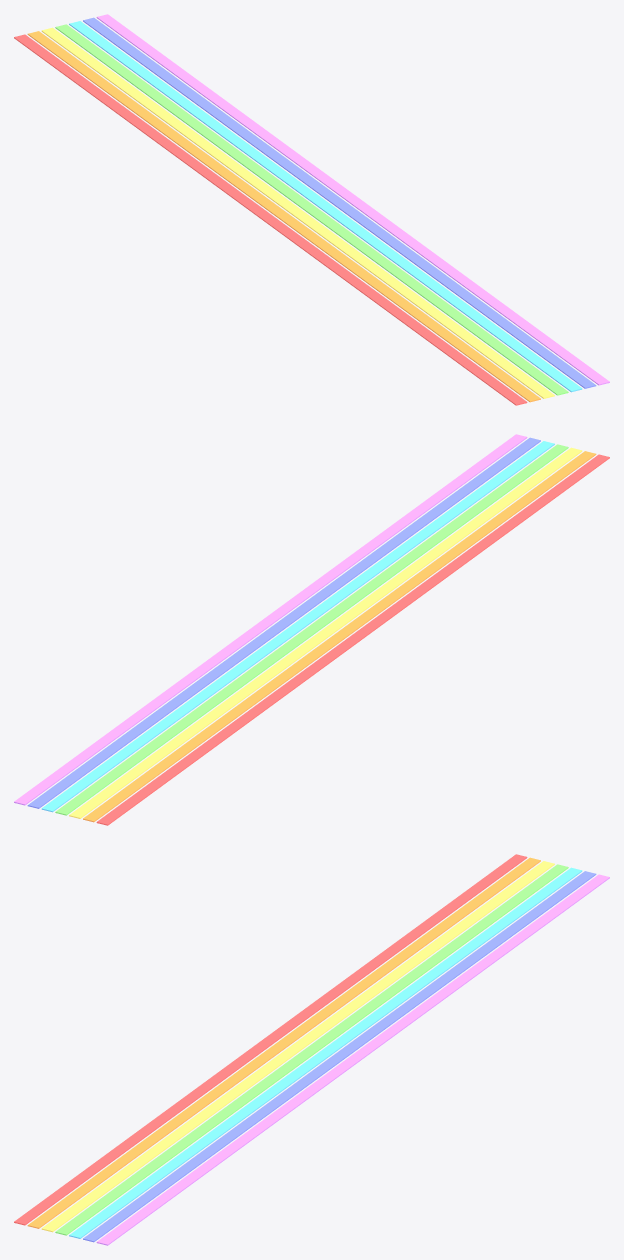
Rendered from yggdrasil-bifrost-ribbon-merged-2026-04-25T02-17-02-006Z.glb.
3 renders of one model, top to bottom at view 1: azimuth 30°, elevation 25°; view 2: azimuth 150°, elevation 25°; view 3: azimuth 330°, elevation 25°, orthographic.
Visible parts, largest first — view 1: Bifrost Ribbon 1, Bifrost Ribbon 4, Bifrost Ribbon 7, Bifrost Ribbon 2, Bifrost Ribbon 3, Bifrost Ribbon 5, Bifrost Ribbon 6; view 2: Bifrost Ribbon 1, Bifrost Ribbon 4, Bifrost Ribbon 7, Bifrost Ribbon 2, Bifrost Ribbon 3, Bifrost Ribbon 5, Bifrost Ribbon 6; view 3: Bifrost Ribbon 1, Bifrost Ribbon 4, Bifrost Ribbon 7, Bifrost Ribbon 2, Bifrost Ribbon 3, Bifrost Ribbon 5, Bifrost Ribbon 6.
Part boxes in pixels (left/top/right/bottom): Bifrost Ribbon 1: left=14, top=34, right=527, bottom=405; Bifrost Ribbon 4: left=55, top=24, right=568, bottom=395; Bifrost Ribbon 7: left=96, top=14, right=609, bottom=385; Bifrost Ribbon 2: left=27, top=31, right=540, bottom=402; Bifrost Ribbon 3: left=41, top=27, right=554, bottom=398; Bifrost Ribbon 5: left=69, top=21, right=582, bottom=392; Bifrost Ribbon 6: left=83, top=17, right=596, bottom=388; Bifrost Ribbon 1: left=96, top=454, right=609, bottom=825; Bifrost Ribbon 4: left=55, top=444, right=568, bottom=815; Bifrost Ribbon 7: left=14, top=434, right=527, bottom=805; Bifrost Ribbon 2: left=83, top=451, right=596, bottom=822; Bifrost Ribbon 3: left=69, top=447, right=582, bottom=818; Bifrost Ribbon 5: left=41, top=441, right=554, bottom=812; Bifrost Ribbon 6: left=27, top=437, right=540, bottom=808; Bifrost Ribbon 1: left=14, top=854, right=527, bottom=1225; Bifrost Ribbon 4: left=55, top=864, right=568, bottom=1235; Bifrost Ribbon 7: left=96, top=874, right=609, bottom=1245; Bifrost Ribbon 2: left=27, top=857, right=540, bottom=1228; Bifrost Ribbon 3: left=41, top=861, right=554, bottom=1232; Bifrost Ribbon 5: left=69, top=867, right=582, bottom=1238; Bifrost Ribbon 6: left=83, top=871, right=596, bottom=1242.
Size of the model in its own units: 8.85 by 0.1 by 82.
